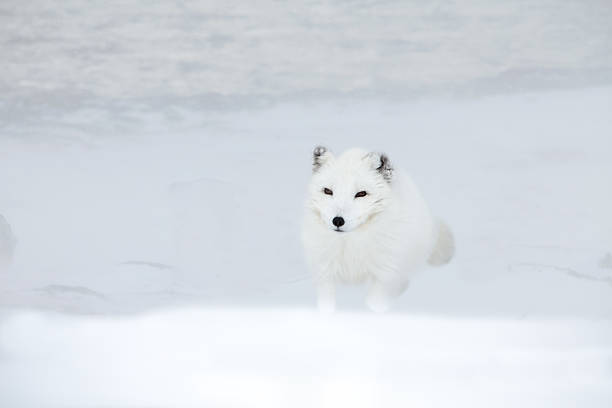arcticfox: (304, 168, 397, 242)
